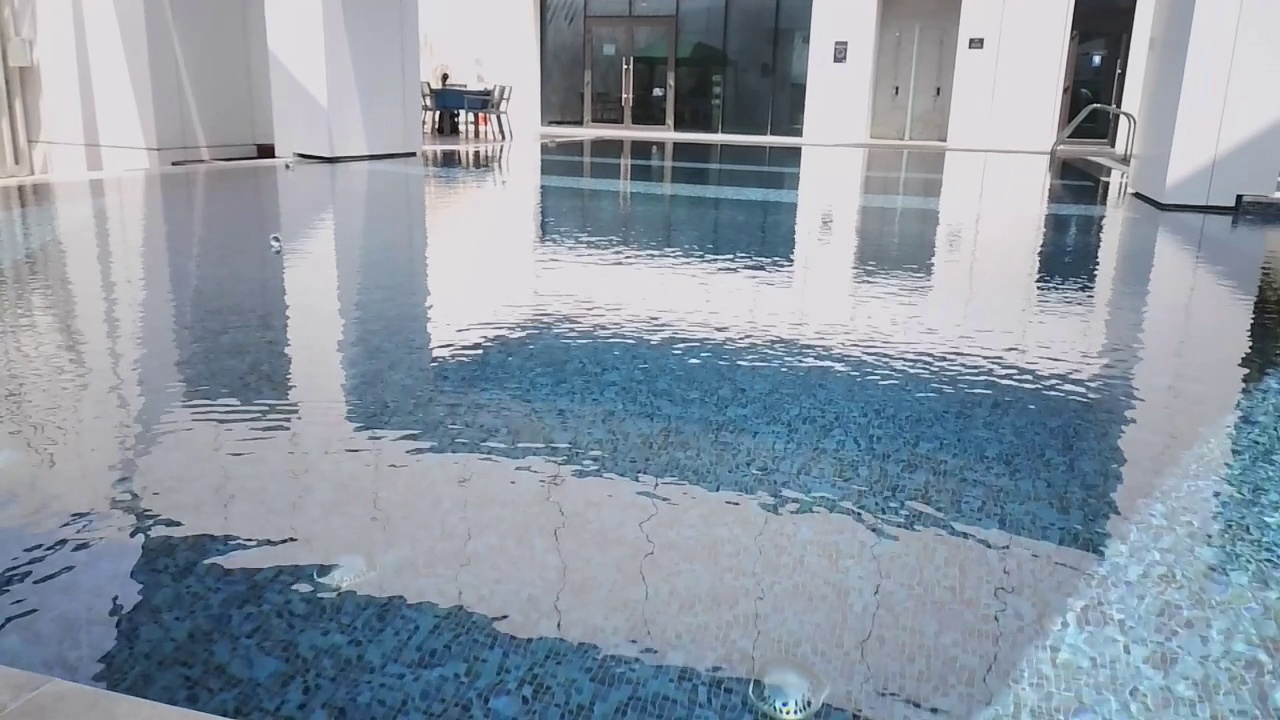debris: (264, 230, 285, 253), (542, 137, 560, 149), (283, 159, 296, 173), (647, 142, 660, 155)
